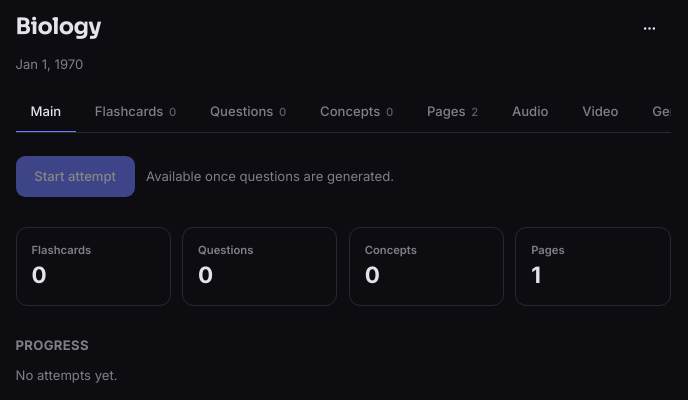
Scenario: PrepPage OCR verdicts › shows an accepted and a rejected page together
Click the tab "Pages2" at point(453, 113), box [412,92,493,133]
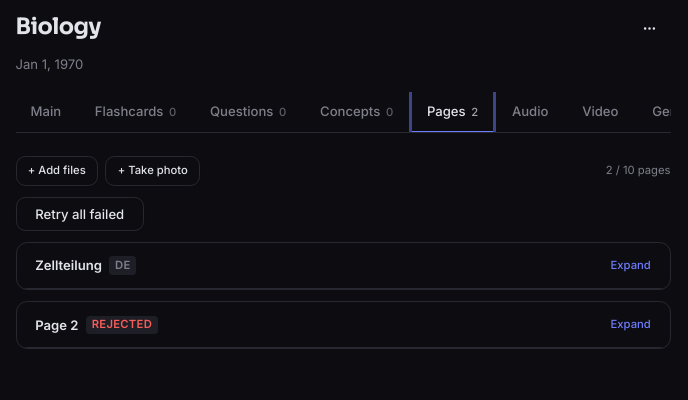
Expected: the text "Zellteilung" is shown, [35,256,102,275]
Expected: the text "Page 2" is shown, [35,316,79,334]
